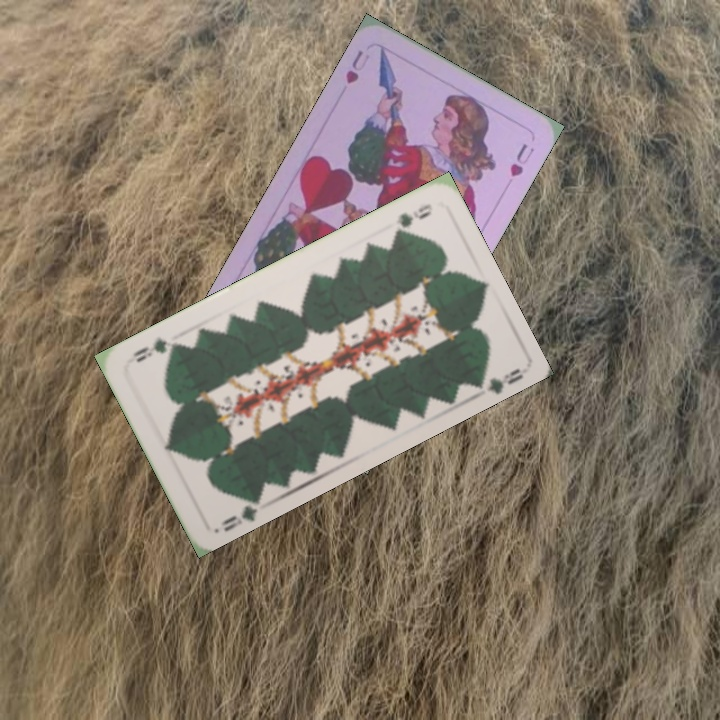G9: (217, 492, 263, 535), (387, 200, 435, 239)
HU: (341, 45, 373, 87)
